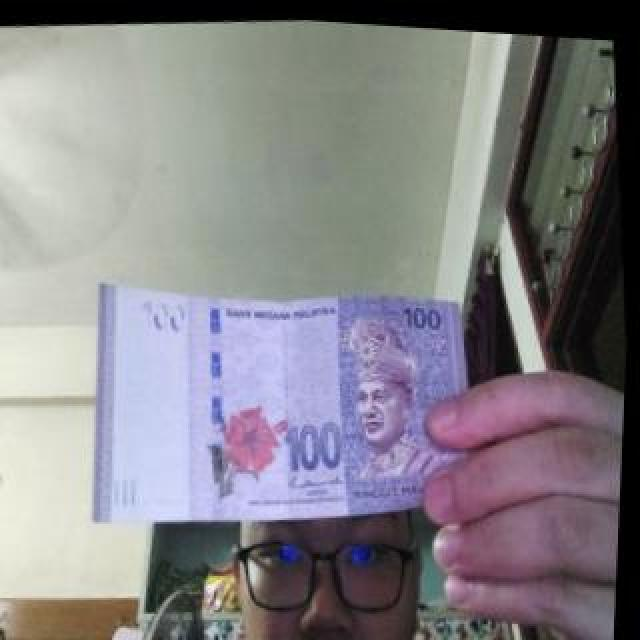100 Ringgit: (64, 242, 518, 549)
